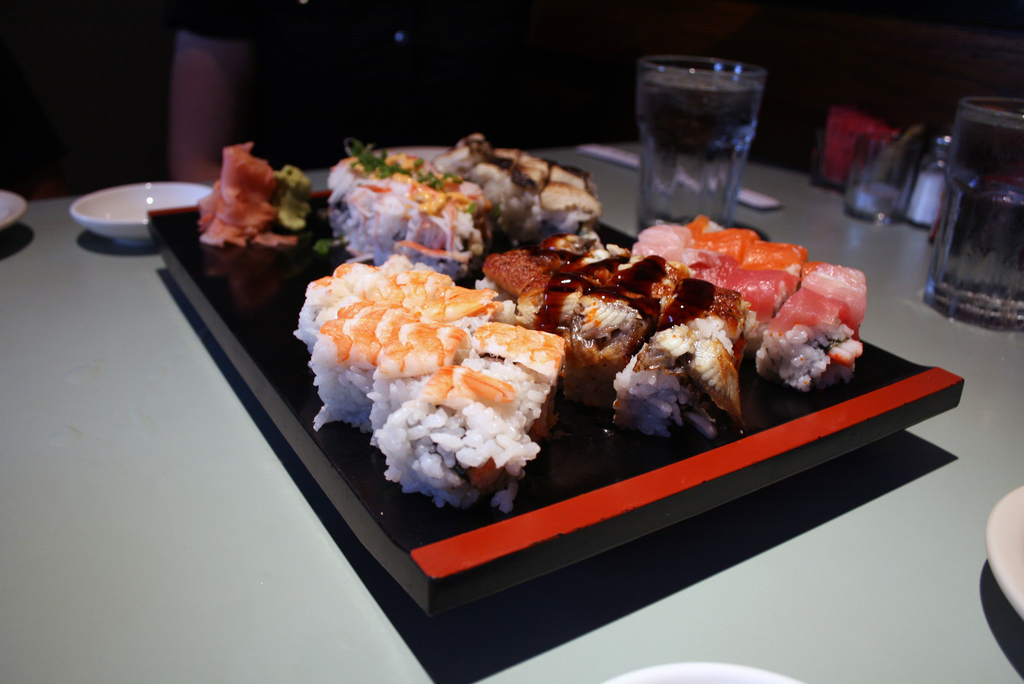sushi: (298, 136, 870, 511), (299, 261, 494, 418)
